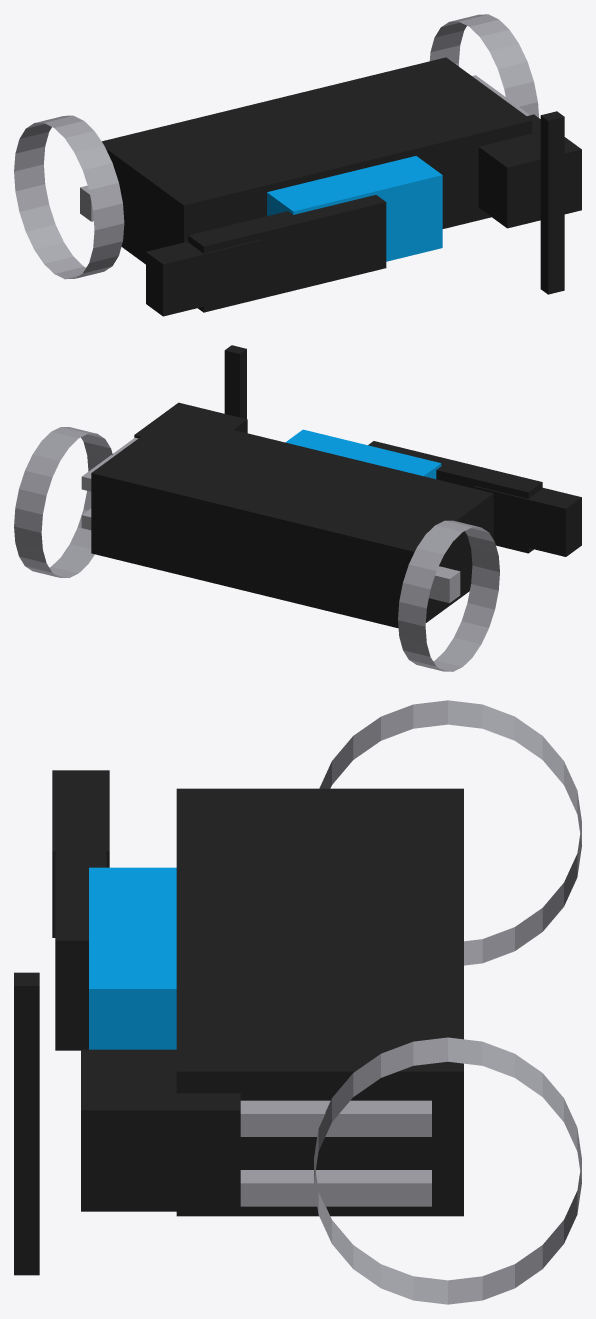
Rendered from vmoto_stash_concept.obj.
The picture shows the model from 3 angles, top to bottom: view 1: azimuth 30°, elevation 25°; view 2: azimuth 150°, elevation 25°; view 3: azimuth 270°, elevation 25°; orthographic projection. The views are drawn at different scales.
Parts seen in each view (by area): view 1: body_shell, seat, rear_wheel, tank, tail, front_fairing, handlebar, front_wheel; view 2: body_shell, rear_wheel, front_wheel, tail, seat, tank, handlebar, front_fairing, swingarm; view 3: body_shell, front_fairing, tank, front_wheel, seat, rear_wheel, handlebar, fork_left, fork_right, tail.
Part boxes in pixels (x1=…): body_shell: x1=102, y1=57, x2=532, y2=264; seat: x1=188, y1=195, x2=386, y2=312; rear_wheel: x1=14, y1=115, x2=124, y2=279; tank: x1=267, y1=156, x2=442, y2=261; tail: x1=146, y1=239, x2=262, y2=316; front_fairing: x1=478, y1=114, x2=581, y2=228; handlebar: x1=540, y1=111, x2=564, y2=294; front_wheel: x1=429, y1=14, x2=538, y2=117; body_shell: x1=91, y1=414, x2=493, y2=628; rear_wheel: x1=398, y1=520, x2=499, y2=671; front_wheel: x1=14, y1=427, x2=112, y2=577; tail: x1=474, y1=486, x2=581, y2=556; seat: x1=368, y1=441, x2=542, y2=553; tank: x1=285, y1=429, x2=441, y2=479; handlebar: x1=224, y1=345, x2=246, y2=418; front_fairing: x1=134, y1=402, x2=247, y2=438; swingarm: x1=429, y1=566, x2=460, y2=603; body_shell: x1=176, y1=788, x2=463, y2=1216; front_fairing: x1=81, y1=1049, x2=240, y2=1211; tank: x1=89, y1=867, x2=176, y2=1049; front_wheel: x1=314, y1=1037, x2=581, y2=1304; seat: x1=55, y1=792, x2=106, y2=1050; rear_wheel: x1=319, y1=700, x2=581, y2=965; handlebar: x1=14, y1=972, x2=39, y2=1275; fork_left: x1=240, y1=1170, x2=431, y2=1206; fork_right: x1=240, y1=1100, x2=431, y2=1136; tail: x1=52, y1=770, x2=109, y2=937.
Bounding box in the file's own units: 2.74 × 1 × 1.78.
